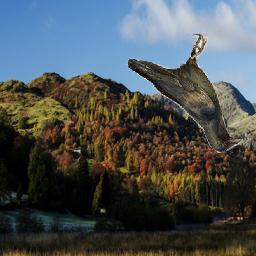Crow: (126, 35, 244, 154)
